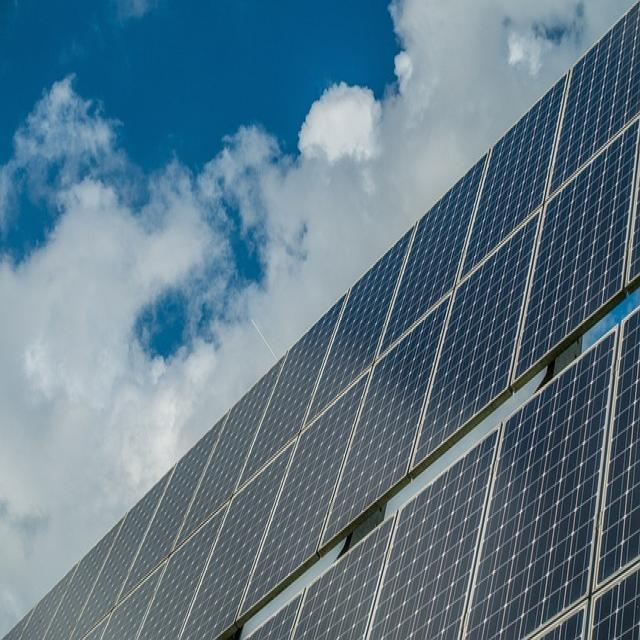clean-solar-panel: (383, 158, 484, 350)
